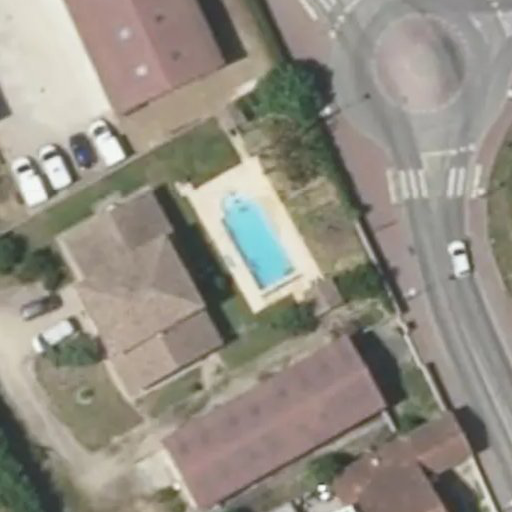pool: (210, 206, 292, 269)
